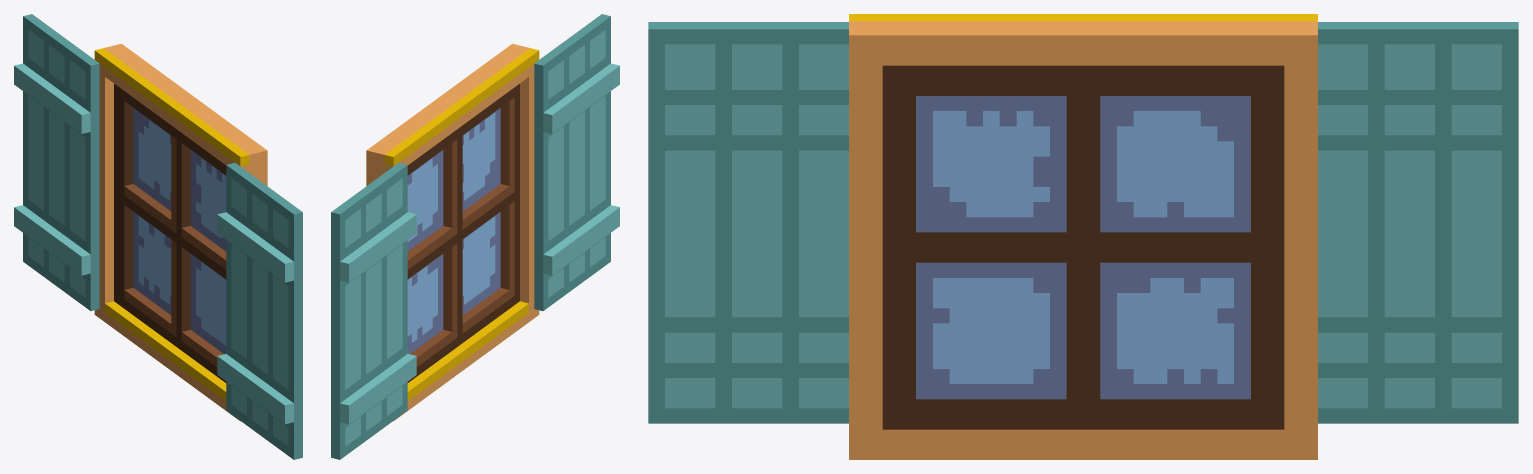
File: window_textured_small_blue_orange.glb
3 renders of one model, left to right at view 1: azimuth 30°, elevation 25°; view 2: azimuth 150°, elevation 25°; view 3: azimuth 270°, elevation 25°, orthographic. The views are drawn at different scales.
Parts seen in each view (by area): view 1: window_textured_small_blue_orange; view 2: window_textured_small_blue_orange; view 3: window_textured_small_blue_orange.
Boxes of the visible parts, bbox=[...] form: window_textured_small_blue_orange: bbox=[14, 14, 302, 459]; window_textured_small_blue_orange: bbox=[331, 14, 619, 459]; window_textured_small_blue_orange: bbox=[648, 14, 1518, 459].
Bounding box in the file's own units: 0.5 × 2.8 × 5.2.
Materials: 1 (1 with a texture image).
